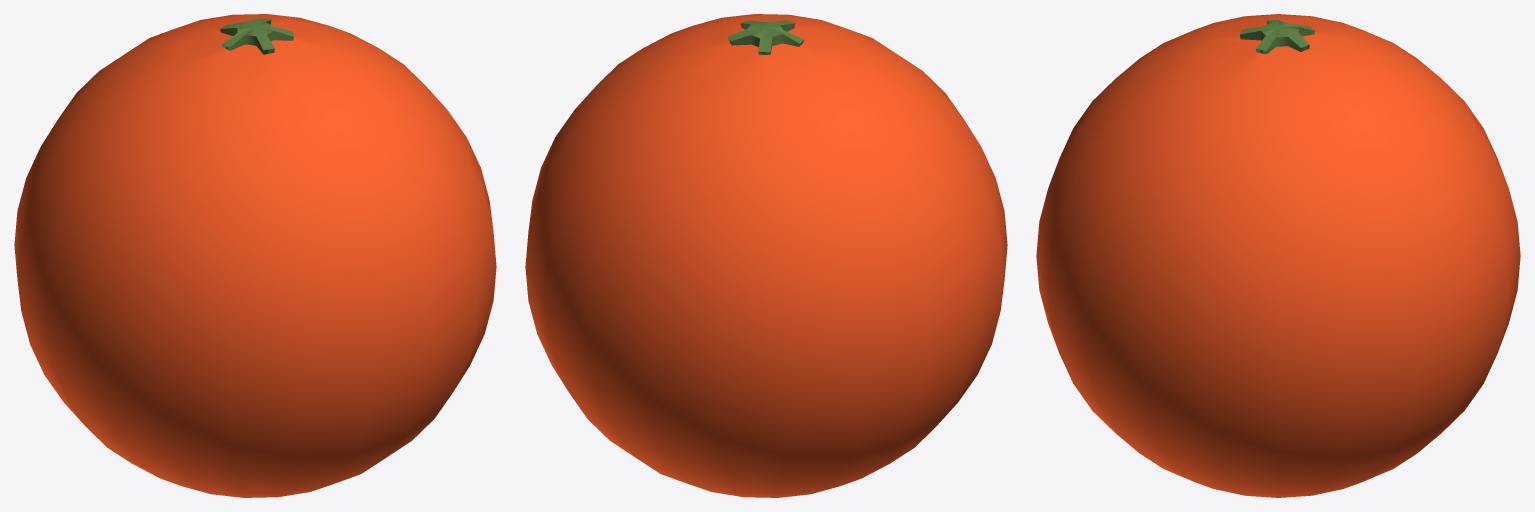
The model's file is Orange.fbx.
The picture shows the model from 3 angles, left to right: view 1: azimuth 30°, elevation 25°; view 2: azimuth 150°, elevation 25°; view 3: azimuth 270°, elevation 25°; orthographic projection.
Parts seen in each view (by area): view 1: Orange; view 2: Orange; view 3: Orange.
Part boxes in pixels (left/top/right/bottom): Orange: left=14, top=14, right=496, bottom=497; Orange: left=525, top=14, right=1007, bottom=497; Orange: left=1036, top=14, right=1520, bottom=497.
Size of the model in its own units: 13.22 by 13.51 by 13.22.
